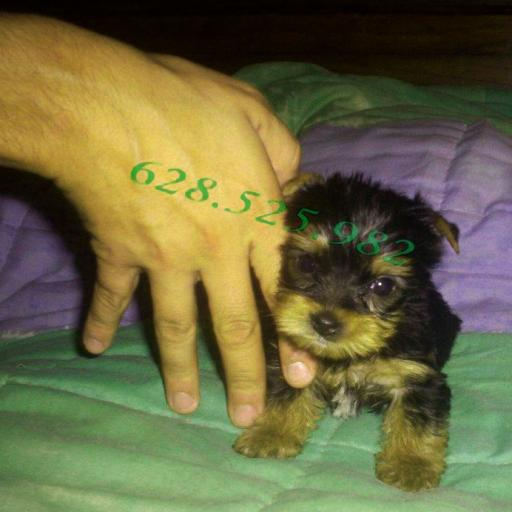dog_face: (253, 180, 460, 374)
